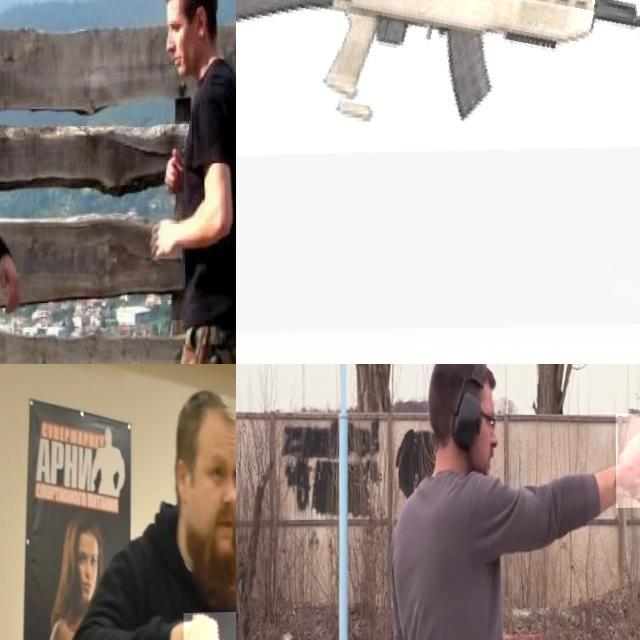-: (0, 303, 38, 364), (182, 613, 236, 640)
gun-knife-thesis - v11 Yolov5 augmented: (236, 0, 640, 156), (615, 414, 640, 510)
